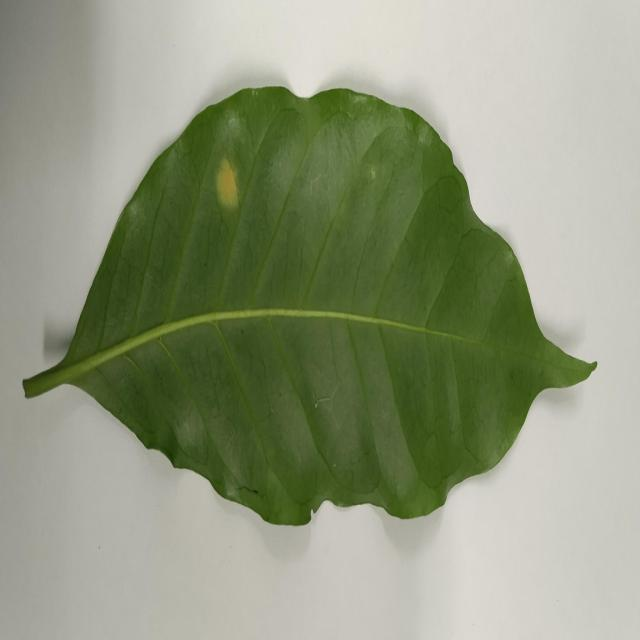rust: (215, 156, 240, 212)
